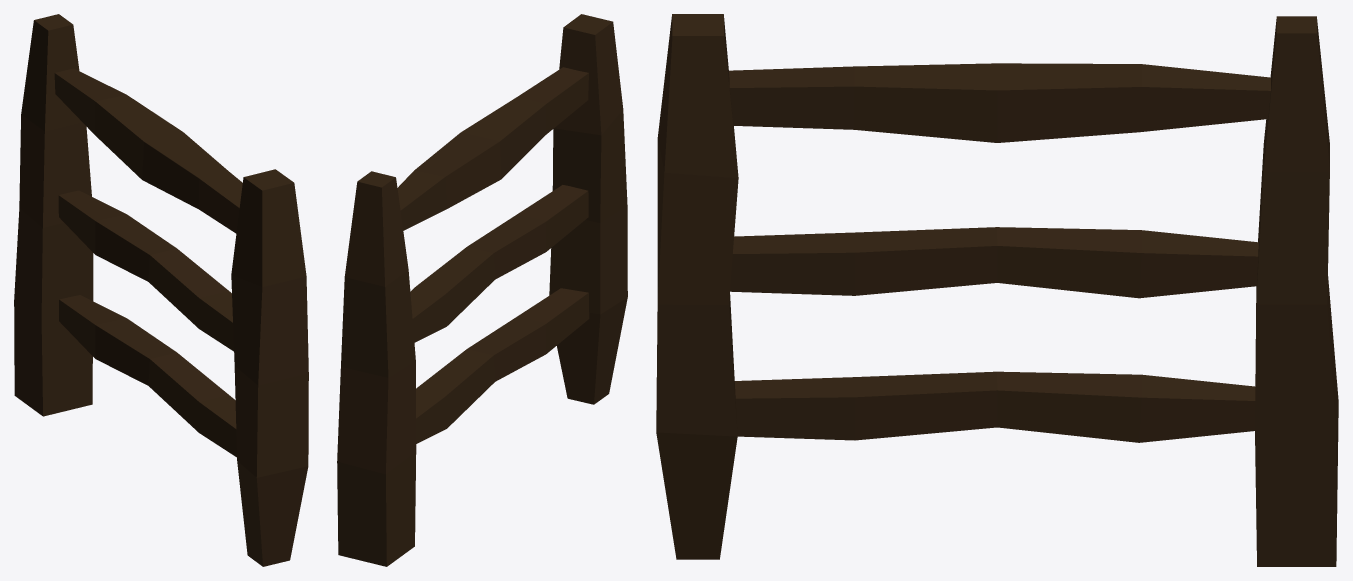
The model's file is coloredFence_1.fbx.
3 renders of one model, left to right at view 1: azimuth 30°, elevation 25°; view 2: azimuth 150°, elevation 25°; view 3: azimuth 270°, elevation 25°, orthographic. The views are drawn at different scales.
Parts seen in each view (by area): view 1: Cube; view 2: Cube; view 3: Cube.
Boxes of the visible parts, left/top/right/bottom form: Cube: left=14, top=14, right=308, bottom=566; Cube: left=337, top=14, right=627, bottom=566; Cube: left=656, top=14, right=1338, bottom=566.
Bounding box in the file's own units: 11.45 × 79.19 × 93.16.
Materials: 1 (1 with a texture image).
